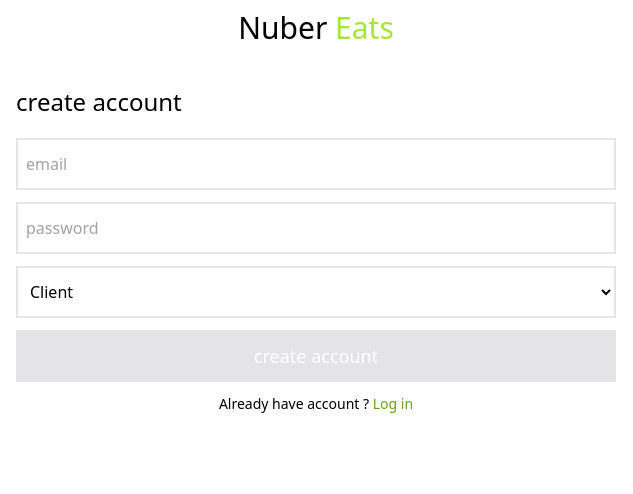
<CreateAccount /> › error message when requires fail
Type "notpattern" into the field with placeholder "email" at (316, 164), box [16,138,616,190]
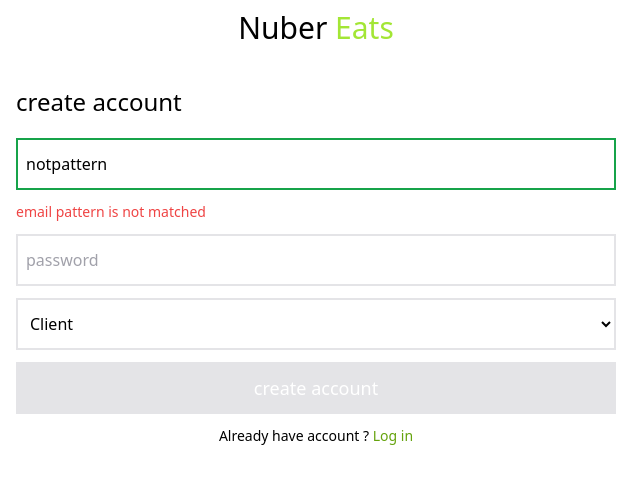
expect the text "email pattern is not matched" is shown: met, box [16,202,206,221]
Type "12" into the password field with placeholder "password" at (316, 260), box [16,234,616,286]
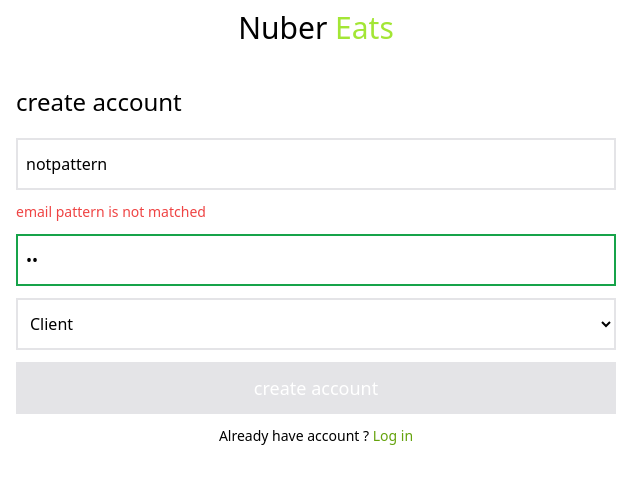
Clear the password field with placeholder "password" at (316, 260), box [16,234,616,286]
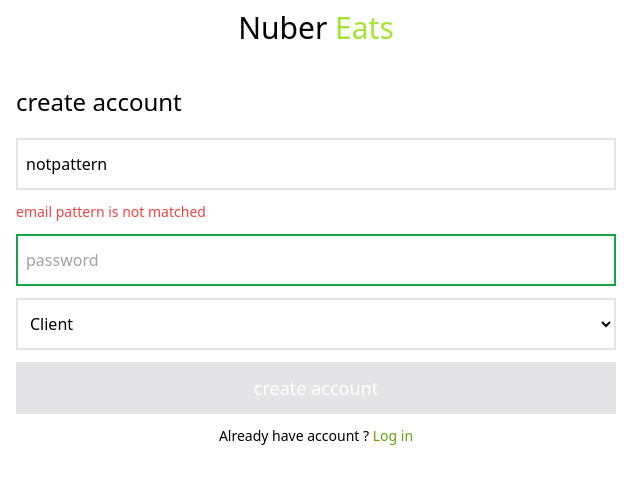
Clear the field with placeholder "email" at (316, 164), box [16,138,616,190]
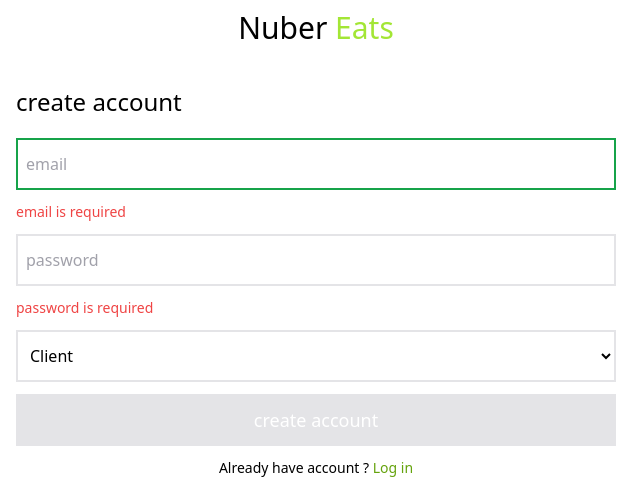
expect the text "email is required" is shown: met, box [16,202,126,221]
expect the text "password is required" is shown: met, box [16,298,153,317]
